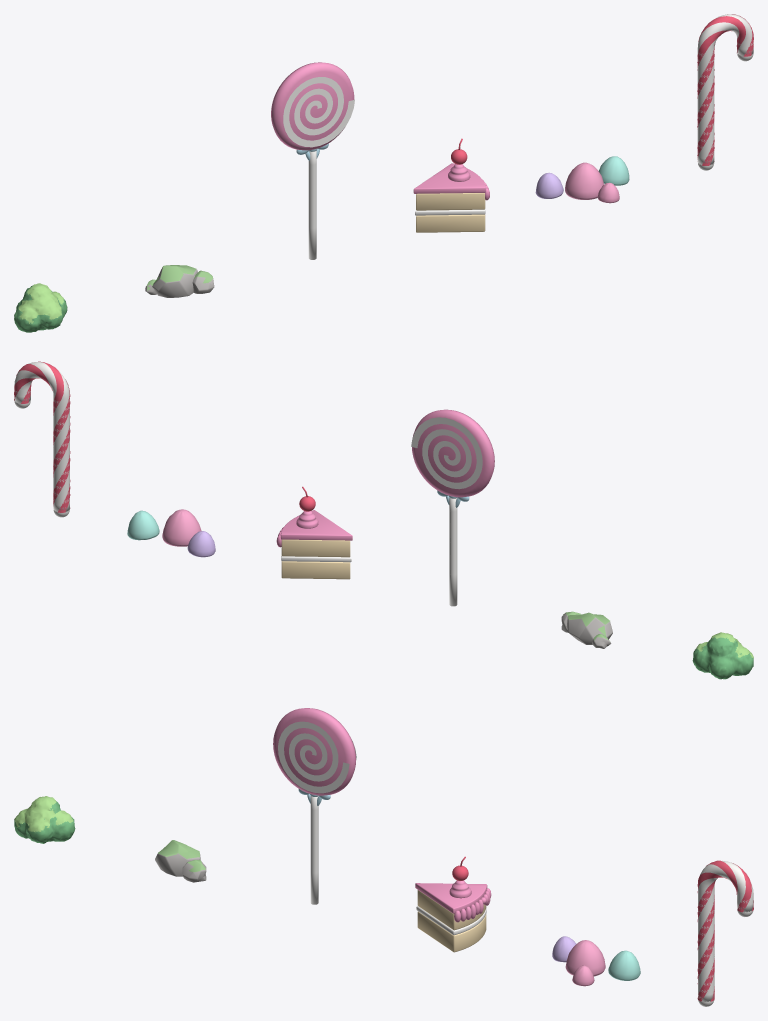
File: RunwayBatch2.fbx
3 renders of one model, top to bottom at view 1: azimuth 30°, elevation 25°; view 2: azimuth 150°, elevation 25°; view 3: azimuth 330°, elevation 25°, orthographic.
Visible parts, largest first — view 1: LollipopCandy, CandyCaneBody, CakeSponge, LollipopSwirl, CandyCaneStripe, CakeFrosting, GumdropA, BushLeavesTop, RockStone, LollipopStick, BushLeaves, GumdropB (+2 smaller); view 2: LollipopCandy, CakeSponge, LollipopSwirl, CandyCaneBody, CandyCaneStripe, BushLeaves, CakeFrosting, GumdropA, RockStone, LollipopStick, GumdropB, GumdropC; view 3: LollipopCandy, LollipopSwirl, CandyCaneBody, CakeSponge, CakeFrosting, CandyCaneStripe, GumdropA, BushLeavesTop, BushLeaves, LollipopStick, RockStone, GumdropB (+1 smaller).
Part boxes in pixels (x1=…): LollipopCandy: x1=271, y1=62, x2=354, y2=150; CandyCaneBody: x1=697, y1=14, x2=753, y2=170; CakeSponge: x1=416, y1=193, x2=485, y2=232; LollipopSwirl: x1=283, y1=77, x2=354, y2=147; CandyCaneStripe: x1=697, y1=14, x2=753, y2=165; CakeFrosting: x1=413, y1=163, x2=489, y2=200; GumdropA: x1=565, y1=162, x2=619, y2=203; BushLeavesTop: x1=18, y1=283, x2=63, y2=323; RockStone: x1=145, y1=267, x2=214, y2=297; LollipopStick: x1=308, y1=151, x2=316, y2=259; BushLeaves: x1=14, y1=285, x2=67, y2=332; GumdropB: x1=598, y1=156, x2=629, y2=185; LollipopCandy: x1=412, y1=409, x2=494, y2=497; CakeSponge: x1=281, y1=539, x2=350, y2=579; LollipopSwirl: x1=411, y1=417, x2=482, y2=489; CandyCaneBody: x1=14, y1=362, x2=69, y2=517; CandyCaneStripe: x1=14, y1=361, x2=70, y2=512; BushLeaves: x1=692, y1=637, x2=753, y2=679; CakeFrosting: x1=276, y1=510, x2=352, y2=547; GumdropA: x1=162, y1=509, x2=201, y2=546; RockStone: x1=561, y1=613, x2=612, y2=648; LollipopStick: x1=449, y1=497, x2=457, y2=606; GumdropB: x1=127, y1=510, x2=159, y2=540; GumdropC: x1=187, y1=531, x2=215, y2=557; LollipopCandy: x1=273, y1=708, x2=356, y2=795; LollipopSwirl: x1=278, y1=721, x2=356, y2=793; CandyCaneBody: x1=698, y1=861, x2=753, y2=1006; CakeSponge: x1=417, y1=890, x2=486, y2=952; CakeFrosting: x1=415, y1=880, x2=491, y2=922; CandyCaneStripe: x1=697, y1=860, x2=753, y2=1001; GumdropA: x1=565, y1=940, x2=605, y2=986; BushLeavesTop: x1=14, y1=796, x2=73, y2=832; BushLeaves: x1=14, y1=801, x2=75, y2=843; LollipopStick: x1=310, y1=796, x2=318, y2=904; RockStone: x1=155, y1=853, x2=206, y2=882; GumdropB: x1=608, y1=950, x2=640, y2=980.
Size of the model in its own units: 9763 by 2555 by 817.
